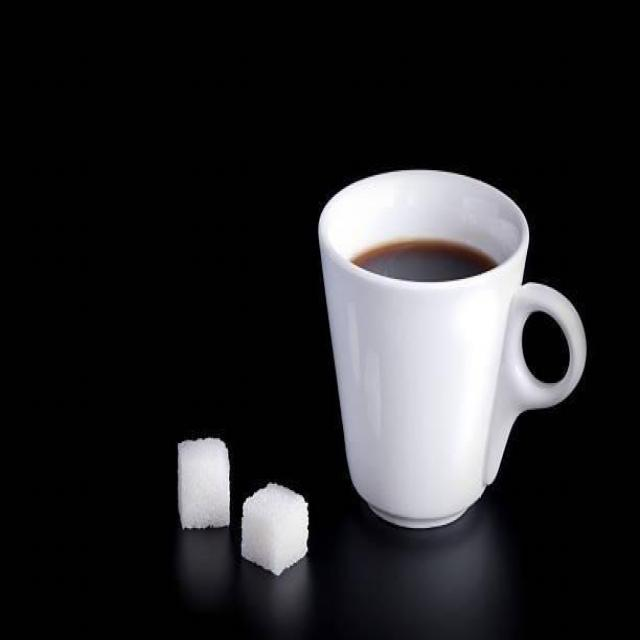cup-handle: (317, 165, 587, 533)
